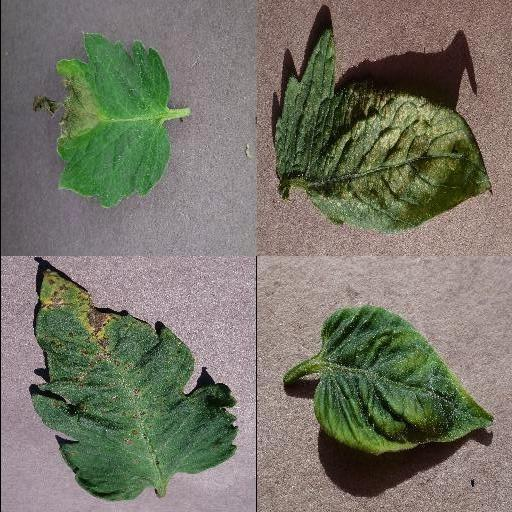Late Blight: (33, 30, 171, 210)
Septoria: (28, 264, 239, 502)
Spider Mites: (272, 29, 494, 234)
Yellow Leaf Curl Virus: (312, 306, 494, 456)
